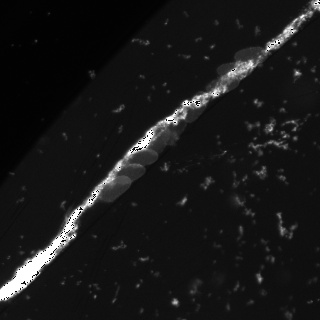embryo: (97, 175, 132, 202), (148, 124, 178, 154), (184, 91, 209, 121), (206, 77, 240, 95), (236, 46, 268, 64), (216, 62, 251, 78), (128, 149, 158, 165), (119, 164, 145, 181), (169, 118, 187, 136)
